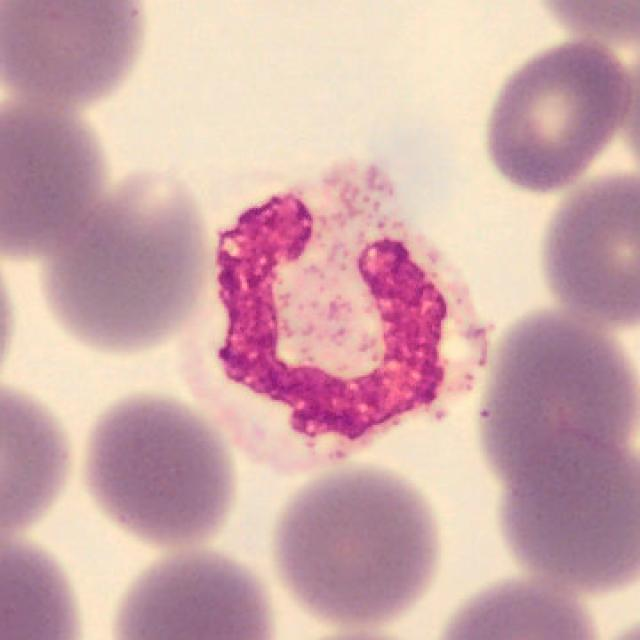Bastonete: (210, 160, 491, 475)
